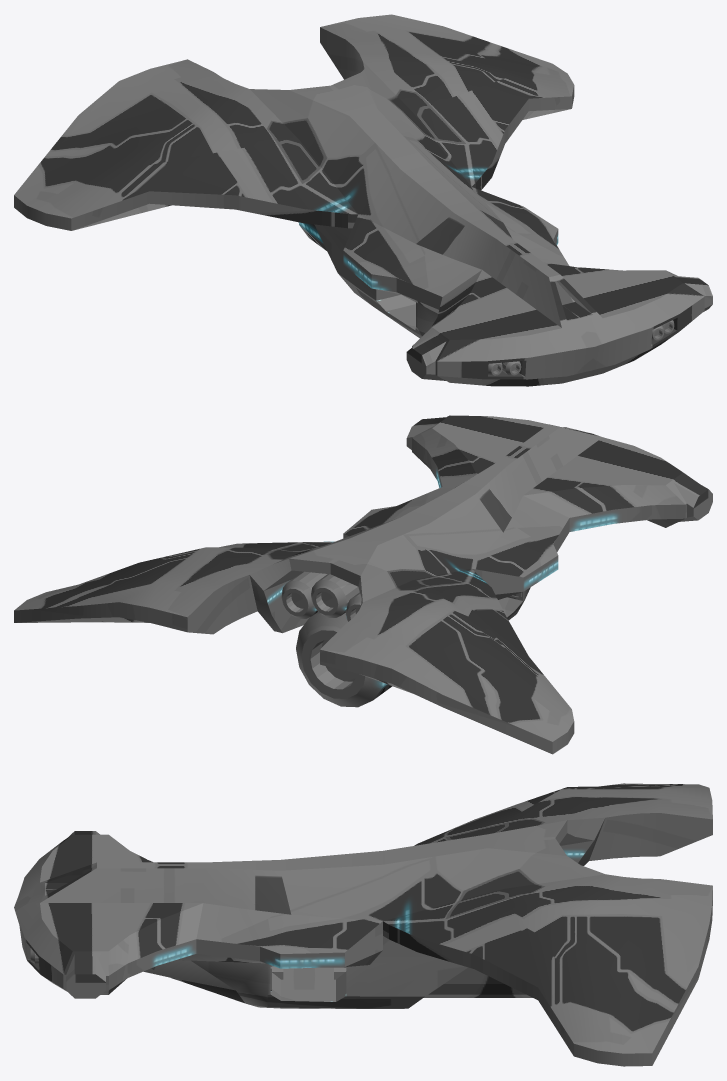
Rendered from Rubicon.fbx.
3 renders of one model, top to bottom at view 1: azimuth 30°, elevation 25°; view 2: azimuth 150°, elevation 25°; view 3: azimuth 270°, elevation 25°, orthographic. The views are drawn at different scales.
Visible parts, largest first — view 1: Rubicon_LOD0; view 2: Rubicon_LOD0; view 3: Rubicon_LOD0.
Boxes of the visible parts, x1,y1,x2,y2 form: Rubicon_LOD0: [14, 14, 712, 386]; Rubicon_LOD0: [14, 415, 712, 754]; Rubicon_LOD0: [14, 783, 712, 1066].
Size of what is drawn, in the model's own units: 17909 by 4937 by 19577.
